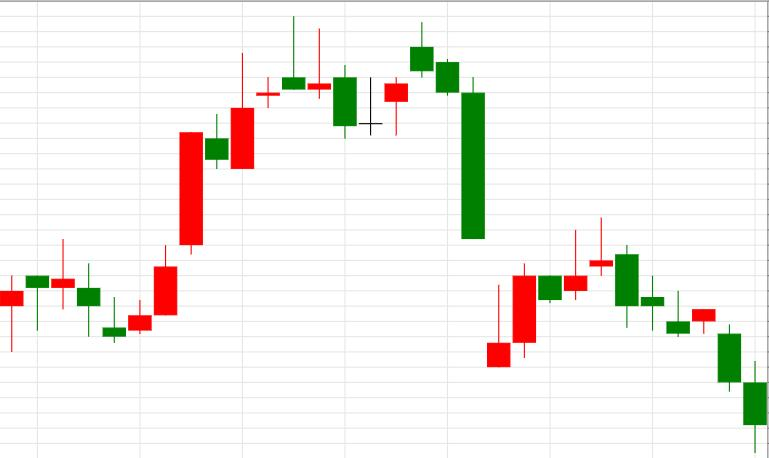inverse_hammer_rise: (411, 21, 511, 367)
three_white_soldiers_rise: (26, 132, 203, 342)
